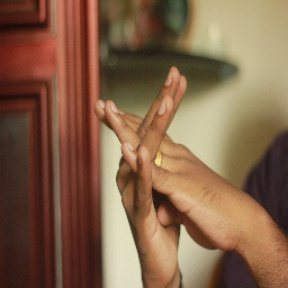W: (89, 57, 248, 278)
